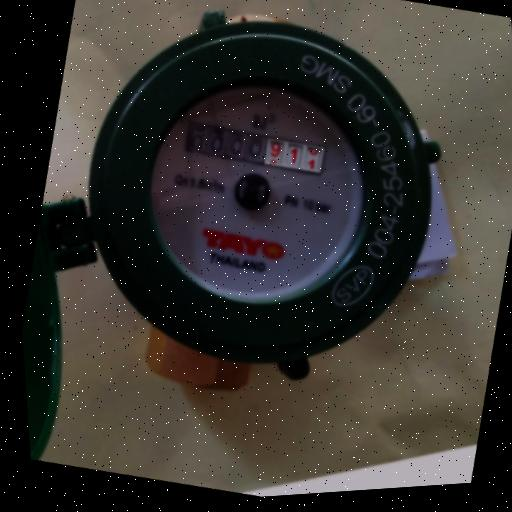0: (187, 124, 207, 153), (205, 128, 226, 155), (225, 131, 246, 158), (244, 136, 264, 162), (302, 146, 321, 172)
1: (283, 144, 302, 168)
9: (265, 141, 285, 165)
border_water_meter_number: (182, 113, 328, 185)
